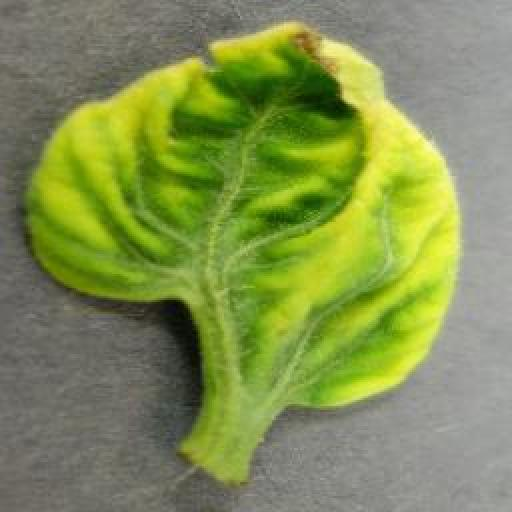Yellow Leaf Curl Virus: (23, 16, 461, 407)
